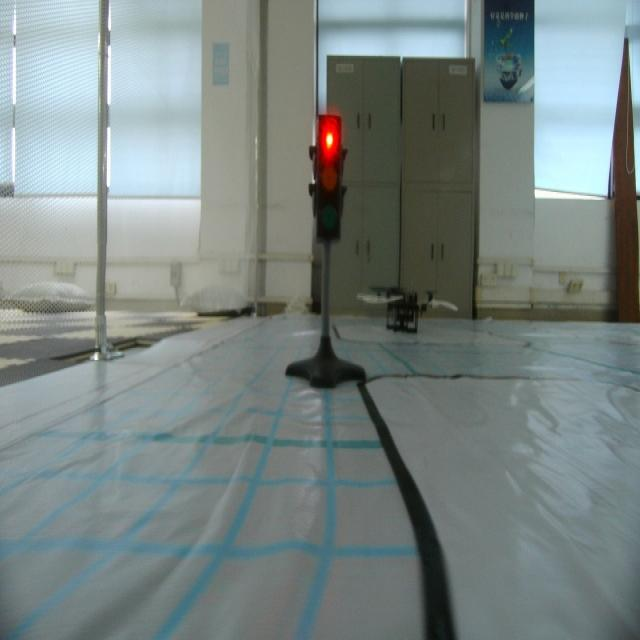red: (304, 108, 352, 259)
